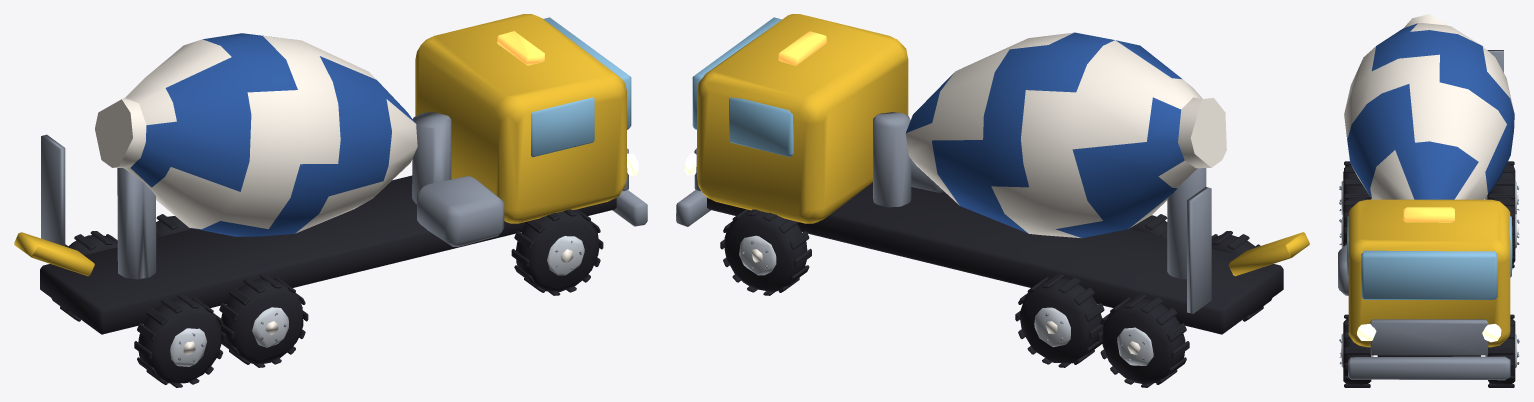
The model's file is cement_truck.glb.
3 views of the same model, side by side, from view 1: azimuth 30°, elevation 25°; view 2: azimuth 150°, elevation 25°; view 3: azimuth 270°, elevation 25° (orthographic). The views are drawn at different scales.
Visible parts, largest first — view 1: cement_truck.008, drum.009; view 2: cement_truck.008, drum.009; view 3: cement_truck.008, drum.009.
Boxes of the visible parts, box(x1,y1,x2,y2) form: cement_truck.008: box(14, 14, 647, 387); drum.009: box(95, 33, 417, 236); cement_truck.008: box(676, 14, 1309, 387); drum.009: box(905, 32, 1226, 238); cement_truck.008: box(1338, 50, 1519, 387); drum.009: box(1344, 14, 1514, 199).
Bounding box in the file's own units: 8.43 × 3.94 × 2.76.
Materials: 1 (1 with a texture image).
